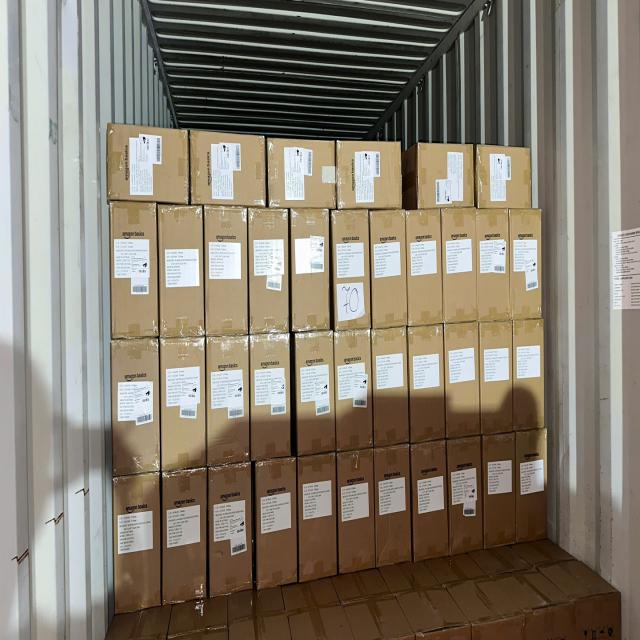Carton: (116, 476, 163, 615), (114, 337, 162, 471), (108, 128, 190, 206), (114, 204, 160, 340), (158, 202, 203, 335), (166, 470, 211, 603), (192, 130, 266, 208), (160, 338, 204, 469), (205, 204, 249, 335), (209, 463, 252, 597), (257, 458, 300, 588), (207, 335, 250, 464), (251, 206, 291, 333), (266, 140, 335, 213), (297, 330, 338, 452), (252, 333, 292, 457), (291, 211, 330, 333), (302, 458, 339, 584), (338, 452, 376, 574), (334, 208, 372, 328), (337, 142, 403, 211), (336, 331, 373, 454), (370, 330, 408, 447), (411, 443, 448, 562), (369, 208, 406, 326), (373, 451, 410, 569), (444, 206, 480, 322), (407, 208, 443, 324), (410, 328, 446, 443), (446, 441, 480, 556), (415, 146, 473, 213), (448, 323, 482, 437), (508, 210, 542, 320), (477, 207, 510, 320), (481, 322, 514, 435), (518, 429, 551, 542), (474, 147, 530, 213), (512, 319, 544, 432), (484, 436, 514, 549)
